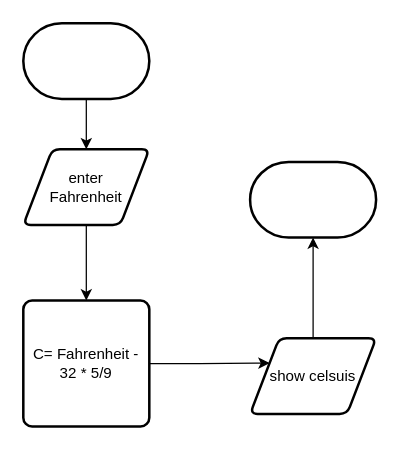
The diagram is 398 pixels wide and 449 high, and some of its shapes have lost their labels. The centre of each missing label's shape, as x and y in pixels:
start: (x=85, y=60)
stop: (x=312, y=199)
